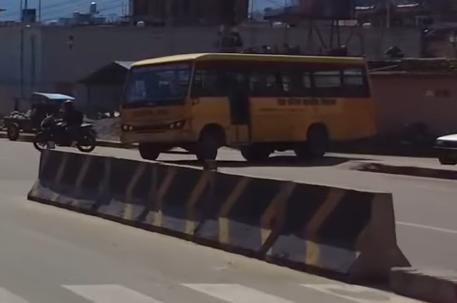bike: (30, 113, 96, 154)
school_bus: (116, 48, 380, 167)
